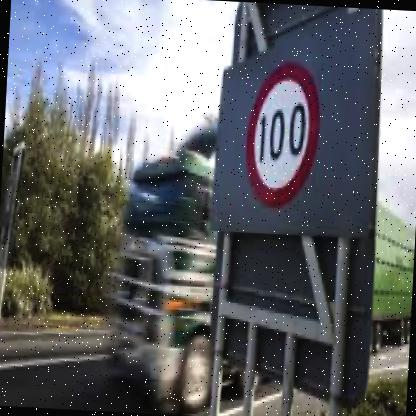speedlimit: (242, 56, 323, 204)
